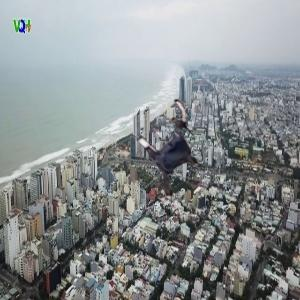drone: (122, 103, 223, 204)
